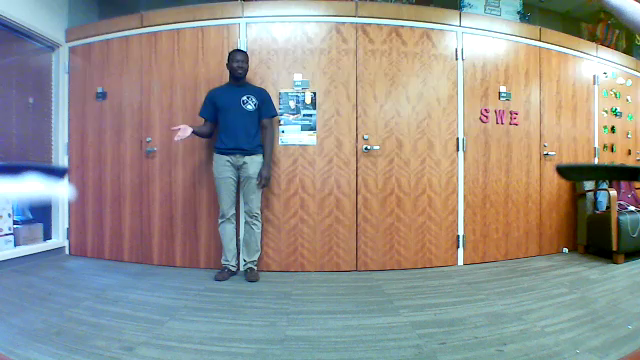land: (164, 119, 199, 145)
